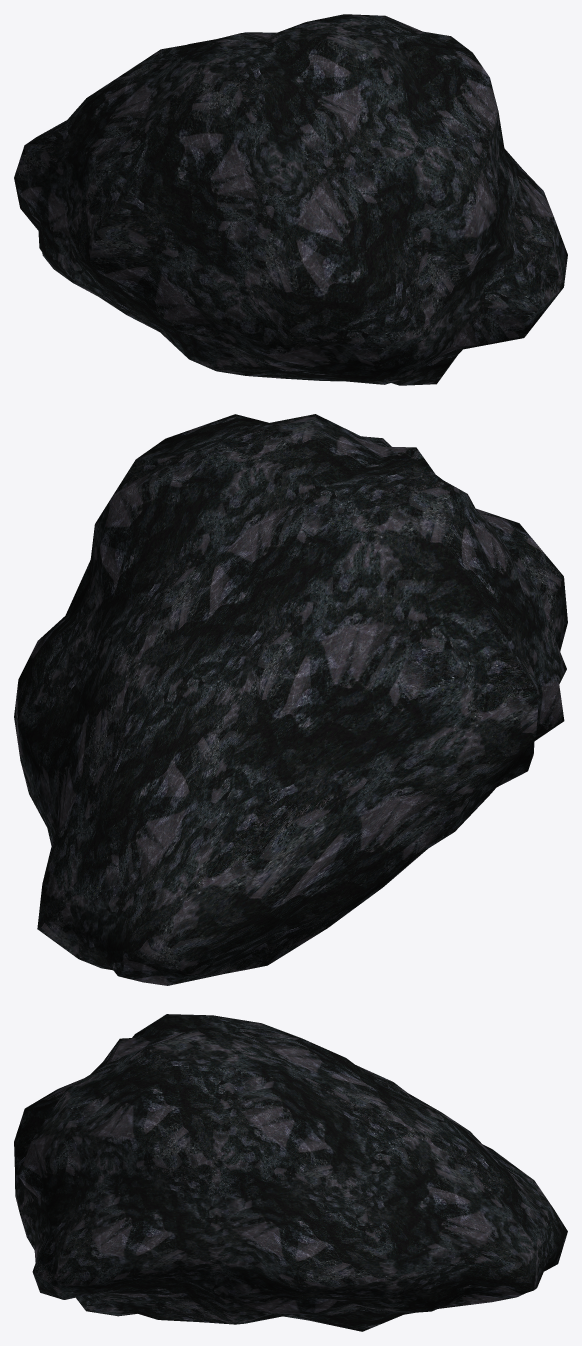
File: asteroid_obsidian_large_s01_l0.fbx
The picture shows the model from 3 angles, top to bottom: view 1: azimuth 30°, elevation 25°; view 2: azimuth 150°, elevation 25°; view 3: azimuth 270°, elevation 25°; orthographic projection. The views are drawn at different scales.
Parts seen in each view (by area): view 1: mesh_node; view 2: mesh_node; view 3: mesh_node.
Boxes of the visible parts, box(x1,y1,x2,y2) form: mesh_node: box(14, 14, 567, 385); mesh_node: box(14, 414, 567, 985); mesh_node: box(14, 1014, 567, 1331).
Bounding box in the file's own units: 106 × 84.15 × 148.
